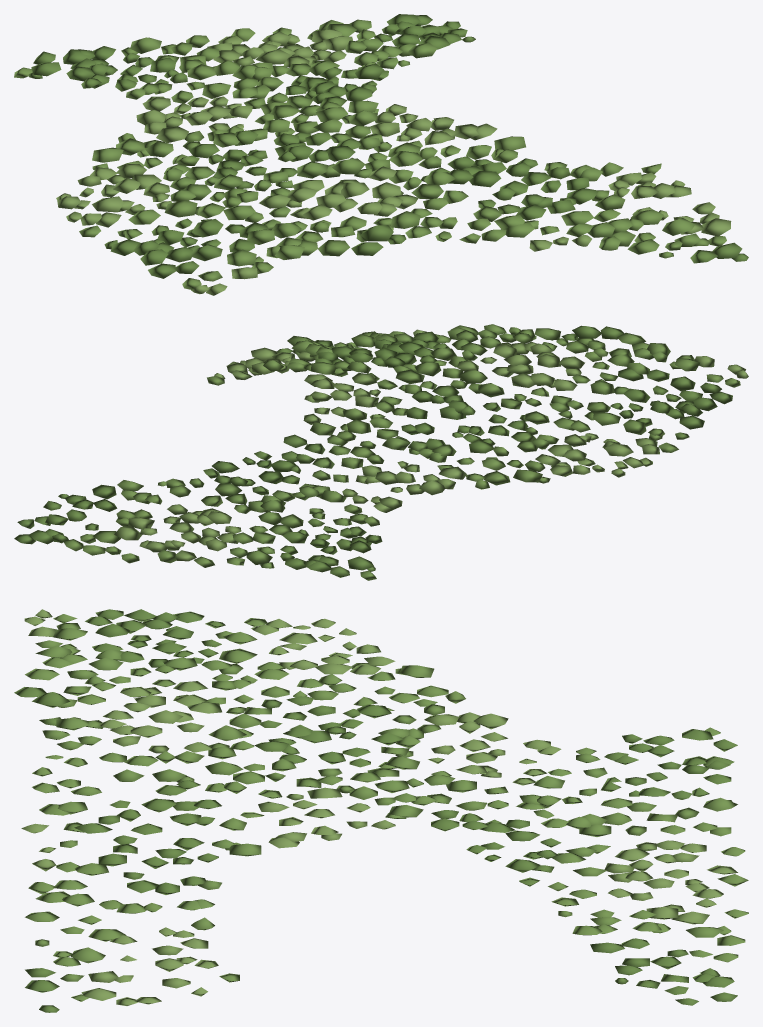
File: canopy-1--2-3.glb
The picture shows the model from 3 angles, top to bottom: view 1: azimuth 30°, elevation 25°; view 2: azimuth 150°, elevation 25°; view 3: azimuth 270°, elevation 25°; orthographic projection. The views are drawn at different scales.
Bounding box in the file's own units: 510 × 102 × 520.
1 material, 1 textured.
